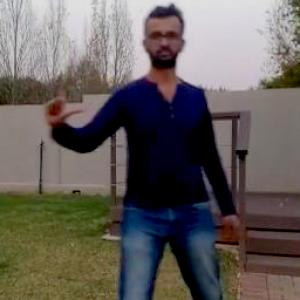land_hand: (36, 70, 84, 132)
